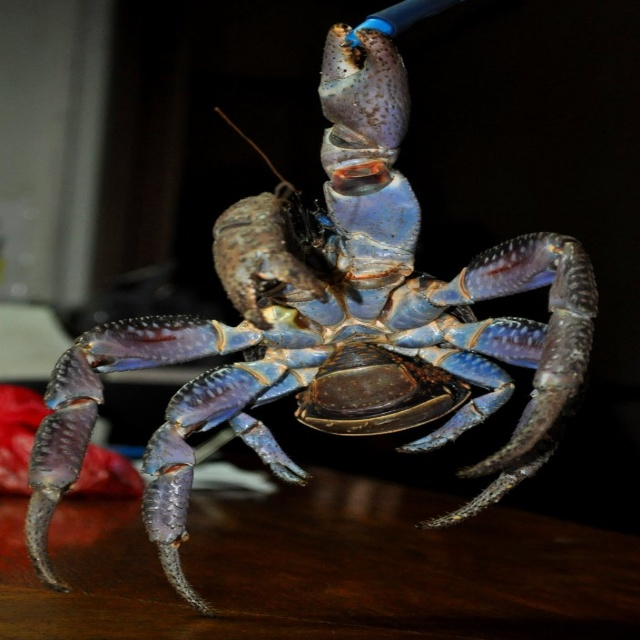Crab: (24, 22, 597, 619)
